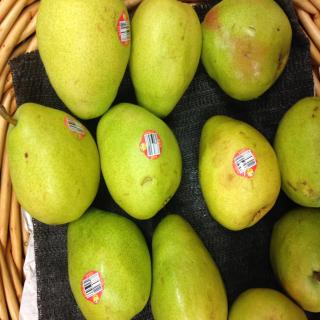Pear: (0, 0, 320, 320), (130, 0, 202, 118)
